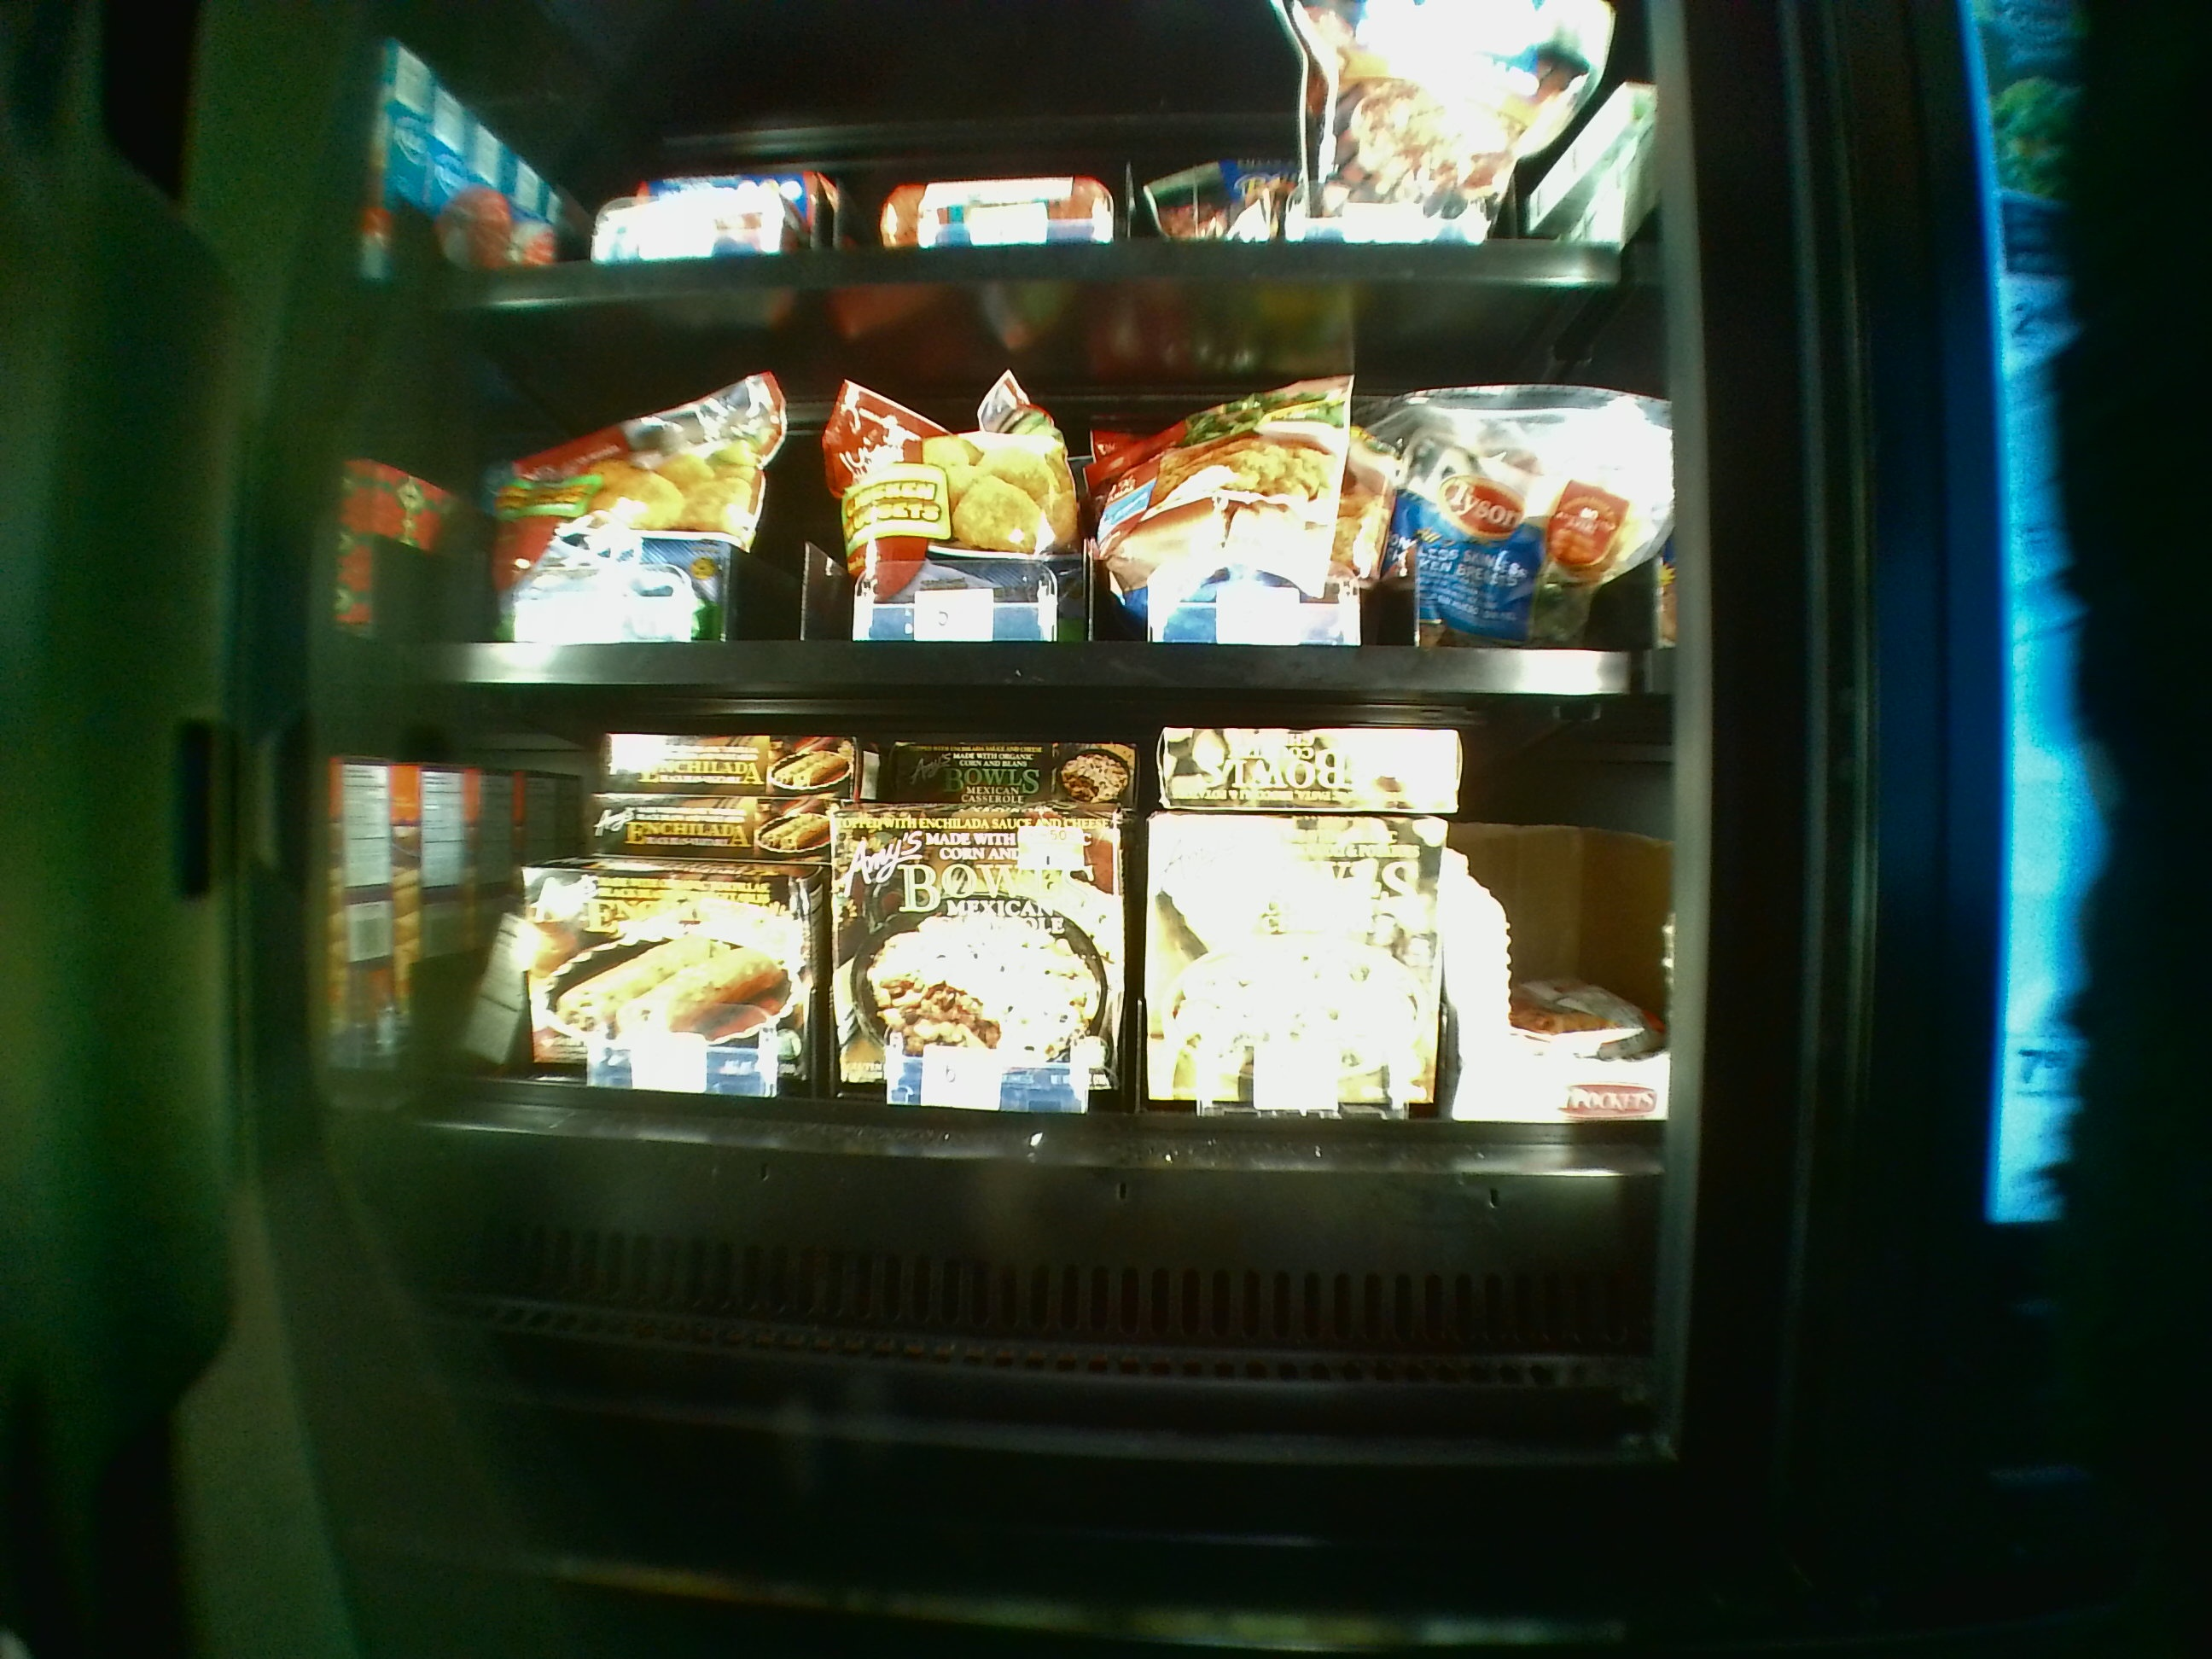shelf: (343, 706, 1658, 1410), (354, 288, 1663, 688)
